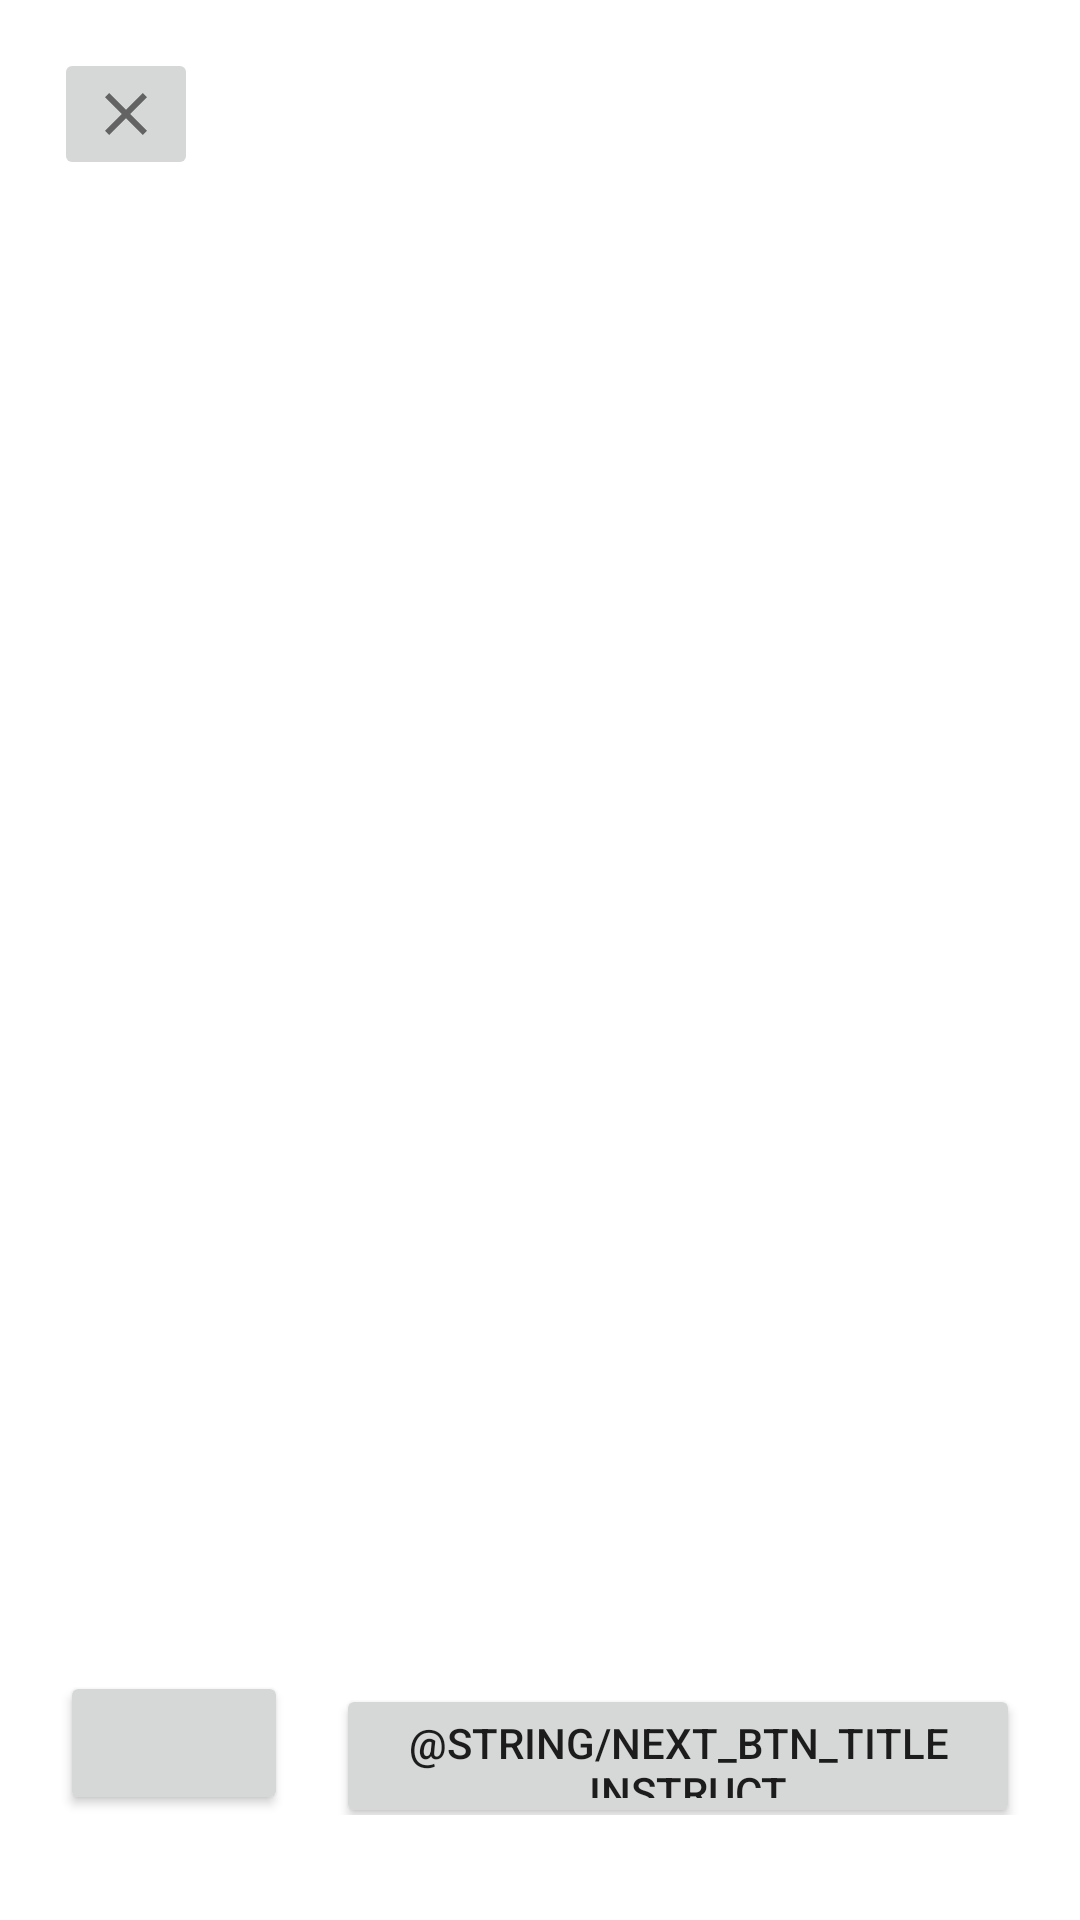

Screen size 1080px×1920px. Icon name, then its center in pixels as (x,y):
close: (126,114)
